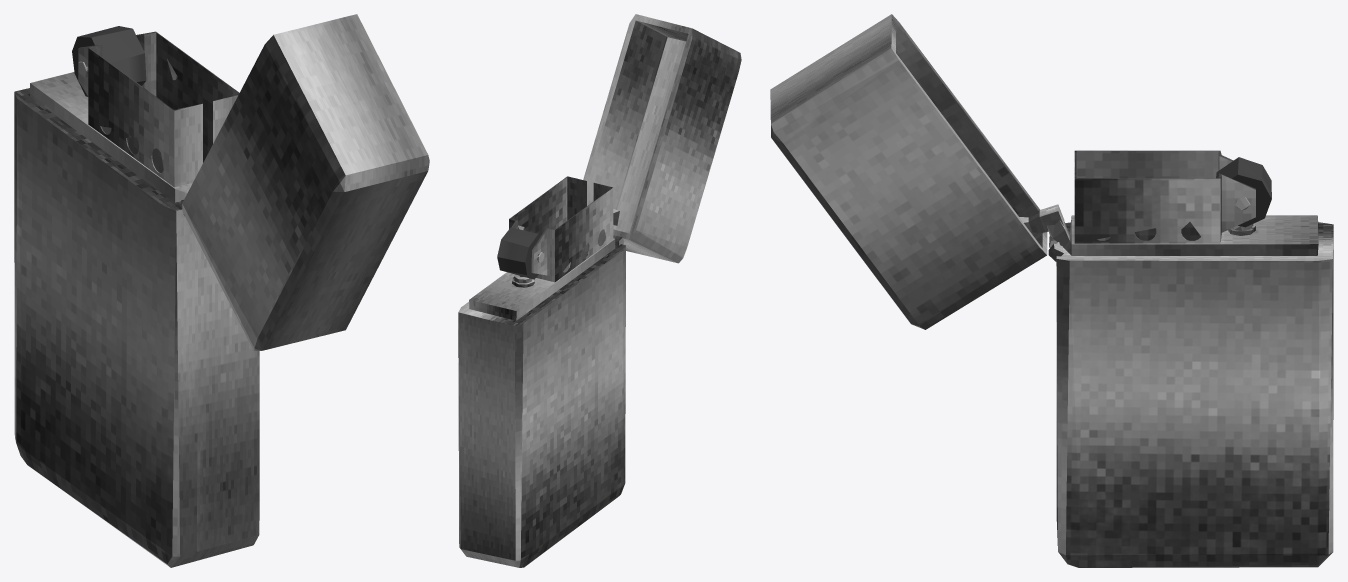
File: Lighter.fbx
3 views of the same model, side by side, from view 1: azimuth 30°, elevation 25°; view 2: azimuth 150°, elevation 25°; view 3: azimuth 270°, elevation 25° (orthographic). The views are drawn at different scales.
Visible parts, largest first — view 1: Cube, Cube.002; view 2: Cube, Cube.002; view 3: Cube, Cube.002.
Part boxes in pixels (x1,y1,x2,y2): Cube: [14, 26, 259, 567]; Cube.002: [182, 14, 429, 350]; Cube: [458, 176, 625, 567]; Cube.002: [583, 14, 741, 263]; Cube: [1046, 150, 1333, 567]; Cube.002: [770, 14, 1064, 329].
Size of the model in its own units: 65.35 by 411 by 403.
